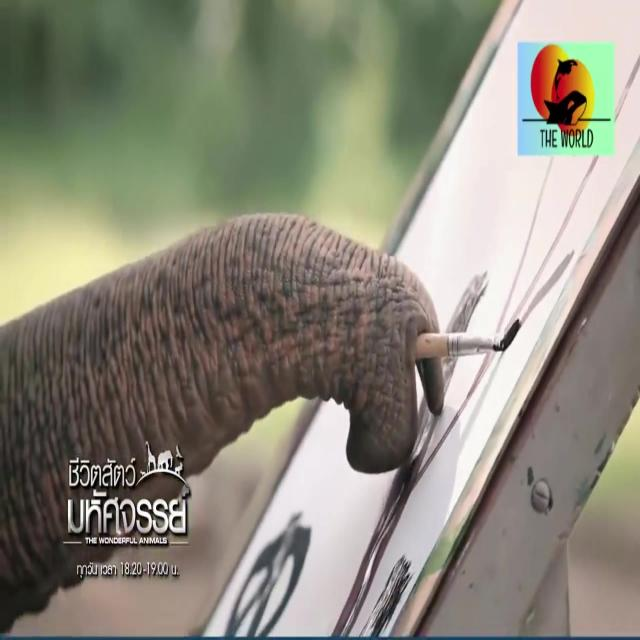Elephant: (42, 176, 444, 572)
